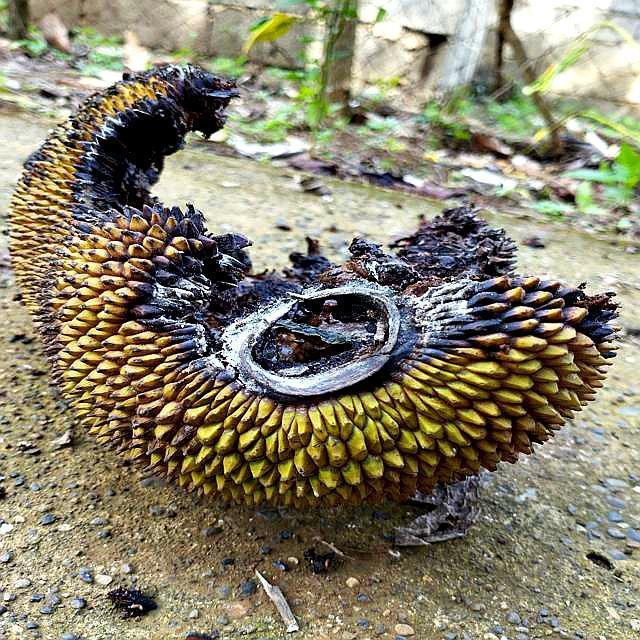Biodegradable: (17, 67, 609, 509)
